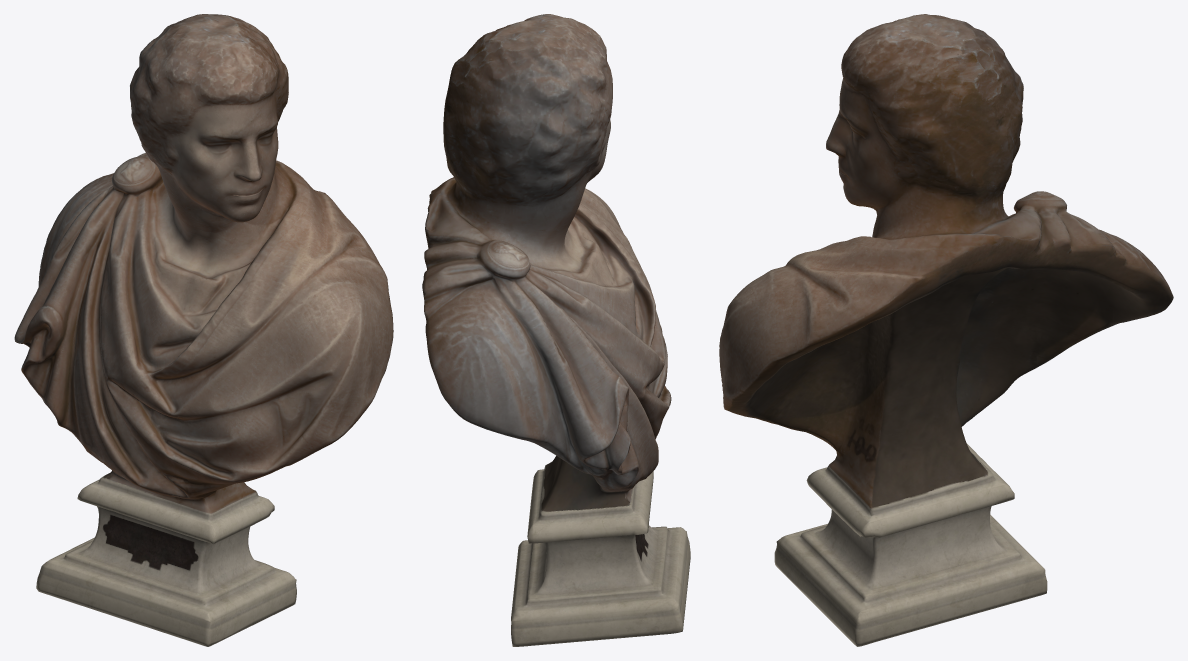
The model's file is VisemeMorphs_sculpture01.fbx.
The picture shows the model from 3 angles, left to right: view 1: azimuth 30°, elevation 25°; view 2: azimuth 150°, elevation 25°; view 3: azimuth 270°, elevation 25°; orthographic projection. The views are drawn at different scales.
Parts seen in each view (by area): view 1: Main_Body; view 2: Main_Body; view 3: Main_Body.
Boxes of the visible parts, x1,y1,x2,y2 form: Main_Body: (14, 14, 393, 646); Main_Body: (422, 14, 690, 646); Main_Body: (719, 14, 1173, 646).
Bounding box in the file's own units: 12.33 × 23.74 × 16.43.
